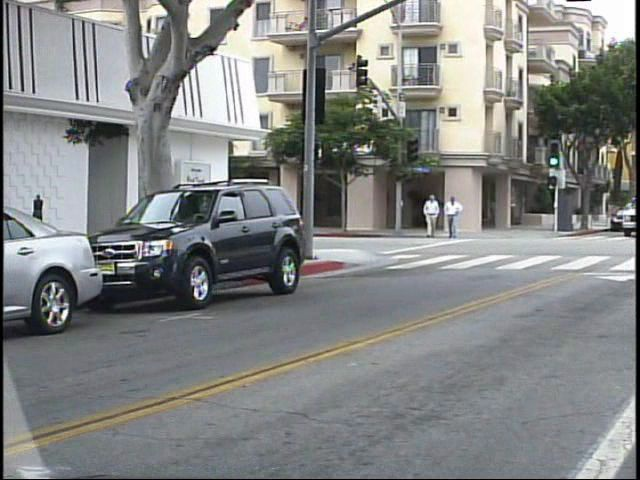person: (419, 190, 442, 243), (442, 191, 465, 243)
